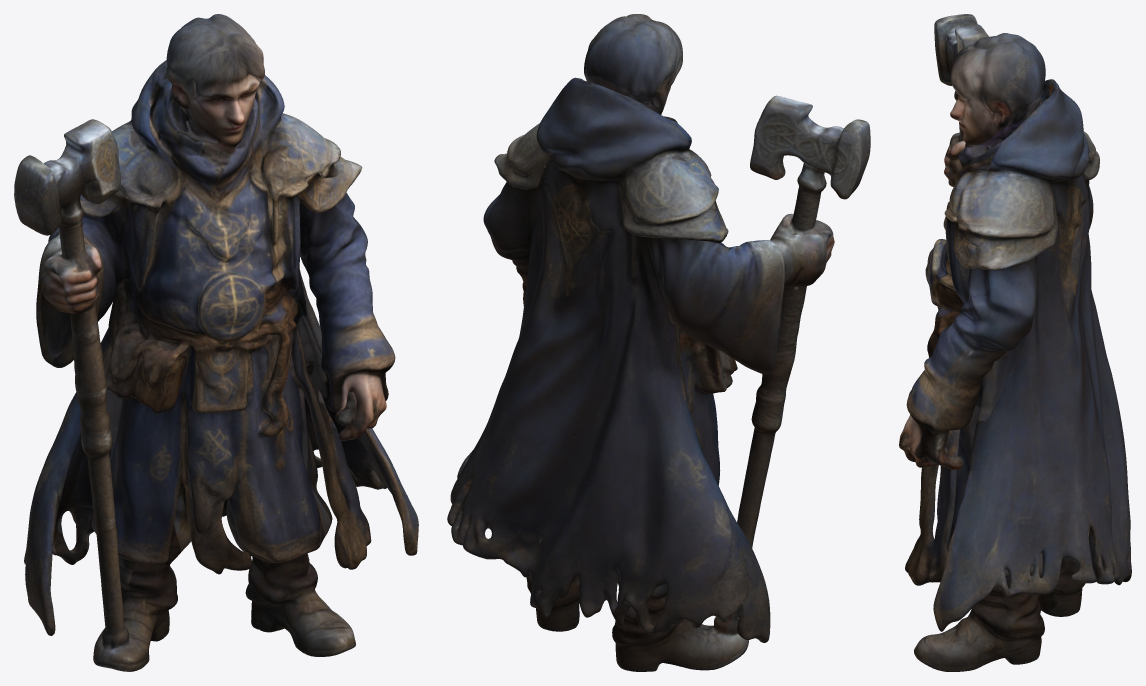
Rendered from young_mage.glb.
The picture shows the model from 3 angles, left to right: view 1: azimuth 30°, elevation 25°; view 2: azimuth 150°, elevation 25°; view 3: azimuth 270°, elevation 25°; orthographic projection. The views are drawn at different scales.
Parts seen in each view (by area): view 1: Object_6, Object_4, Object_5; view 2: Object_4, Object_5, Object_6; view 3: Object_4, Object_5, Object_6.
Boxes of the visible parts, box(x1,y1,x2,y2) form: Object_6: box(41, 144, 418, 656); Object_4: box(14, 14, 395, 671); Object_5: box(24, 199, 418, 671); Object_4: box(464, 14, 870, 670); Object_5: box(447, 206, 826, 671); Object_6: box(457, 155, 834, 514); Object_4: box(915, 14, 1120, 577); Object_5: box(929, 133, 1131, 665); Object_6: box(899, 132, 1017, 671).
Bounding box in the file's own units: 1.53 × 2.3 × 0.827.
1 material, 1 textured.
